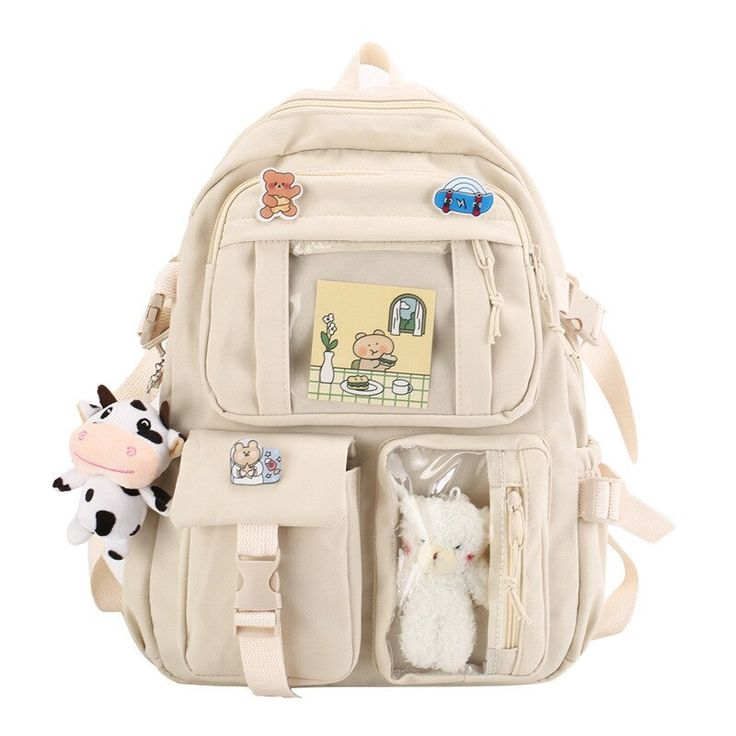nylon: (80, 45, 643, 689)
